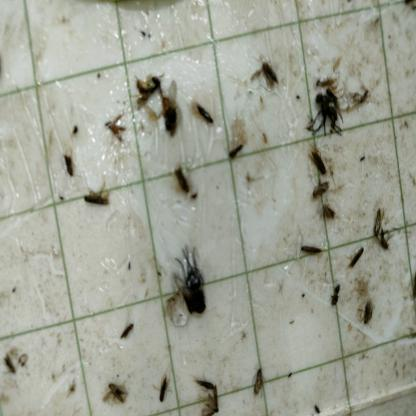prays_oleae: (160, 96, 182, 146), (258, 53, 282, 98), (372, 202, 390, 260), (100, 373, 130, 406), (355, 289, 375, 338), (130, 72, 154, 112), (102, 112, 124, 153), (309, 134, 329, 178), (194, 99, 219, 133), (296, 236, 326, 264), (83, 186, 115, 210), (248, 360, 266, 401), (354, 78, 374, 114), (198, 387, 223, 413), (173, 166, 192, 198), (326, 278, 342, 312), (60, 147, 76, 181), (2, 345, 18, 378), (310, 180, 332, 202), (116, 324, 140, 344), (348, 246, 365, 273), (320, 204, 339, 228), (157, 371, 170, 406), (228, 138, 243, 166), (198, 378, 214, 394)
